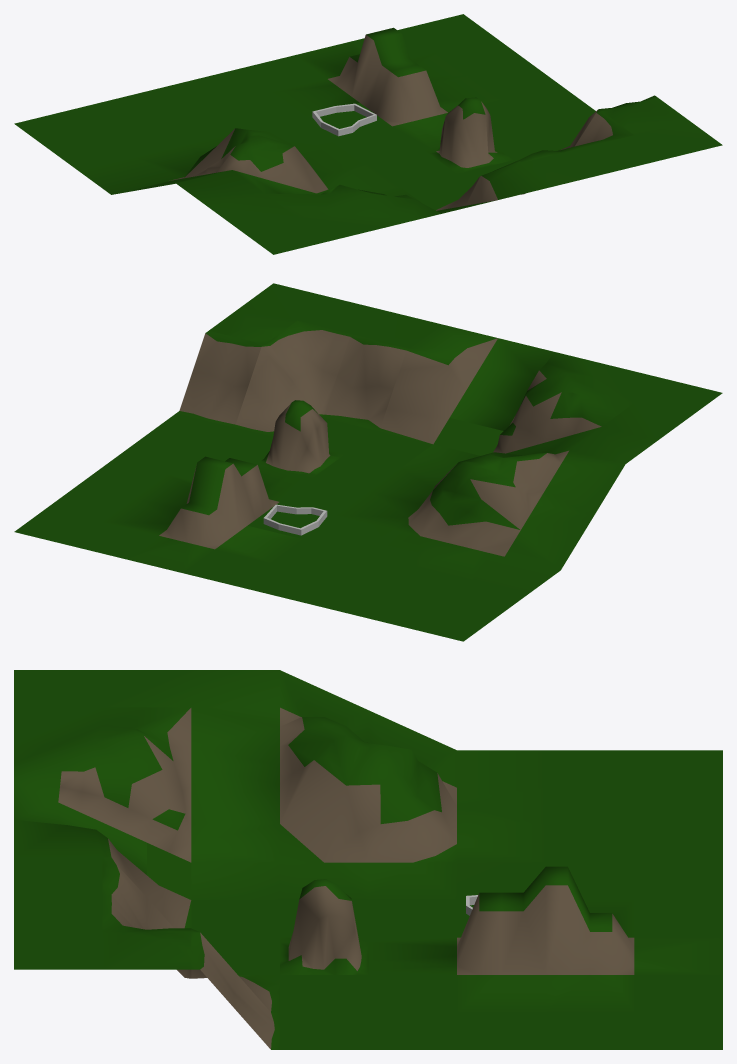
Rendered from ground.dae.
3 renders of one model, top to bottom at view 1: azimuth 30°, elevation 25°; view 2: azimuth 150°, elevation 25°; view 3: azimuth 270°, elevation 25°, orthographic. The views are drawn at different scales.
Parts seen in each view (by area): view 1: Plane, 002.plateau01, 003.base, 001.grass01, 00a.cliff03; view 2: Plane, 00a.cliff01, 00a.cliff04, 00a.cliff03, 002.plateau01, 00a.cliff02, 003.base, 001.grass01; view 3: Plane, 002.plateau01, 00a.cliff01, 001.grass01, 00a.cliff04, 00a.cliff03, 00a.cliff02.
Part boxes in pixels (left/top/right/bottom): Plane: left=14, top=14, right=722, bottom=254; 002.plateau01: left=425, top=97, right=512, bottom=173; 003.base: left=304, top=102, right=391, bottom=139; 001.grass01: left=401, top=174, right=472, bottom=210; 00a.cliff03: left=575, top=111, right=633, bottom=148; Plane: left=14, top=283, right=722, bottom=641; 00a.cliff01: left=176, top=331, right=264, bottom=426; 00a.cliff04: left=321, top=334, right=409, bottom=430; 00a.cliff03: left=265, top=320, right=352, bottom=416; 002.plateau01: left=257, top=400, right=344, bottom=477; 00a.cliff02: left=233, top=344, right=306, bottom=436; 003.base: left=248, top=502, right=335, bottom=539; 001.grass01: left=345, top=430, right=432, bottom=467; Plane: left=14, top=670, right=722, bottom=1049; 002.plateau01: left=280, top=879, right=368, bottom=974; 00a.cliff01: left=191, top=932, right=279, bottom=1049; 001.grass01: left=191, top=900, right=279, bottom=937; 00a.cliff04: left=102, top=857, right=173, bottom=929; 00a.cliff03: left=102, top=894, right=191, bottom=978; 00a.cliff02: left=191, top=928, right=279, bottom=1012.
Bounding box in the file's own units: 8 × 8 × 1.17.
